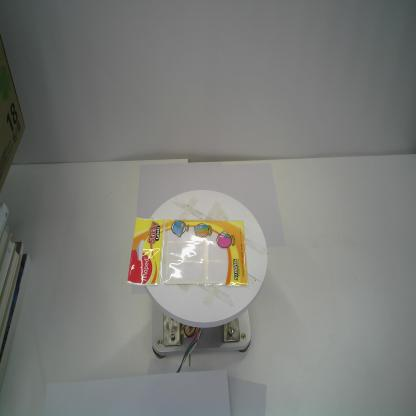Stationery: (127, 217, 248, 286)
